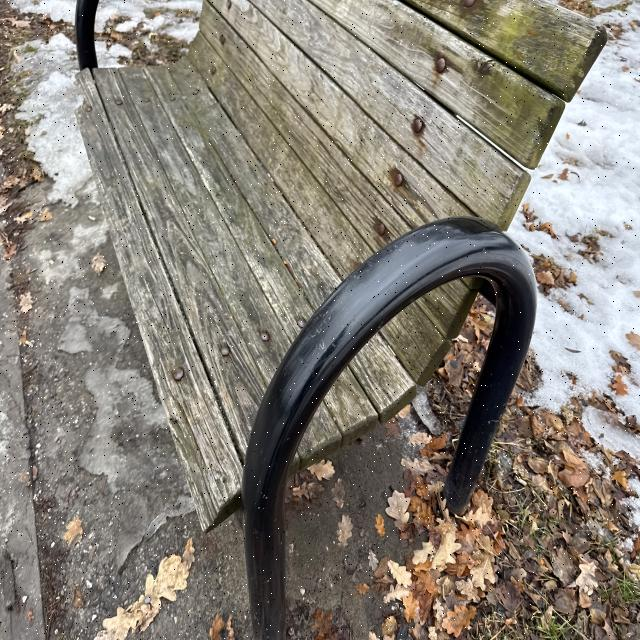Bench: (138, 0, 590, 586)
